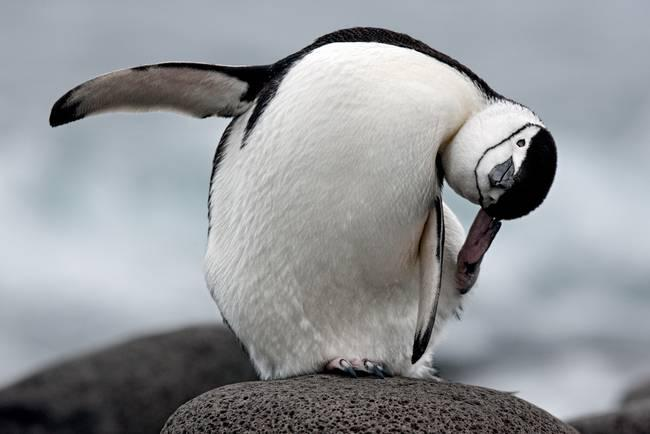chinstrap: (42, 12, 554, 385)
